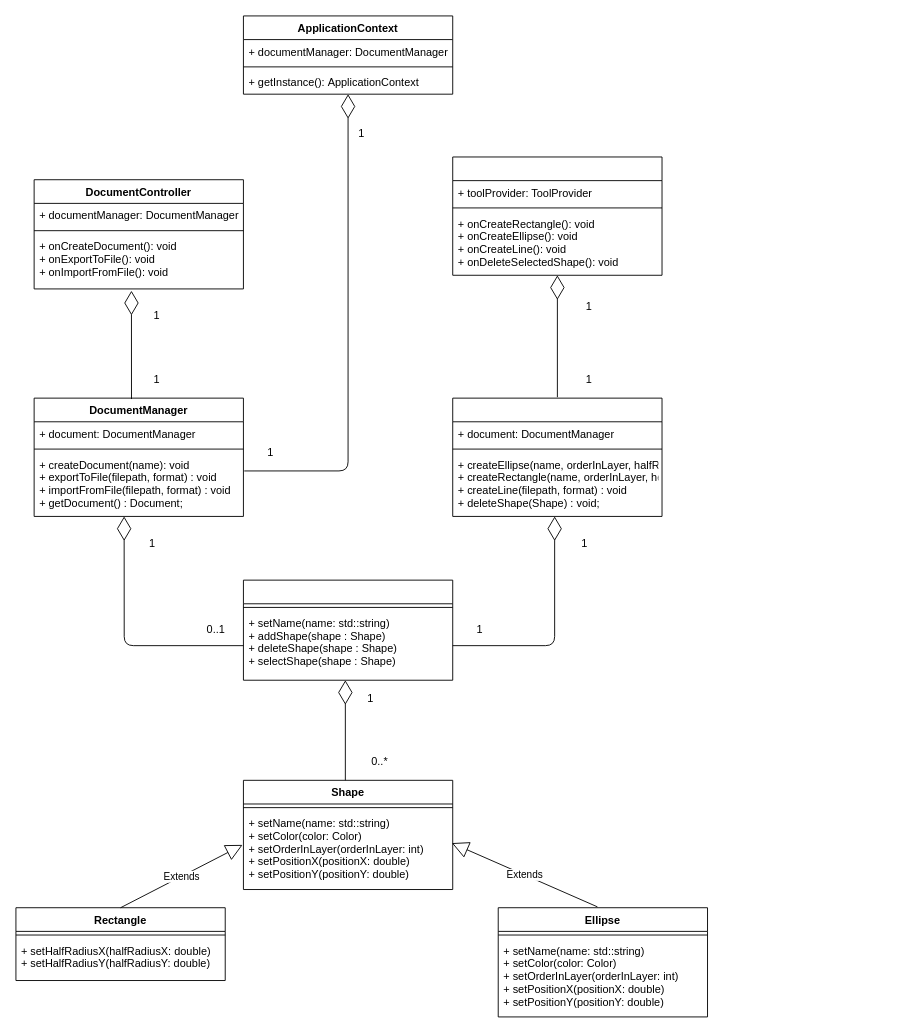
Image size: 904x1036. Some labels were removed from this diagram. Each missing label, with the box of its shape:
Document: (243, 579, 453, 680)
ToolController: (452, 156, 662, 275)
ToolProvider: (452, 397, 662, 516)
